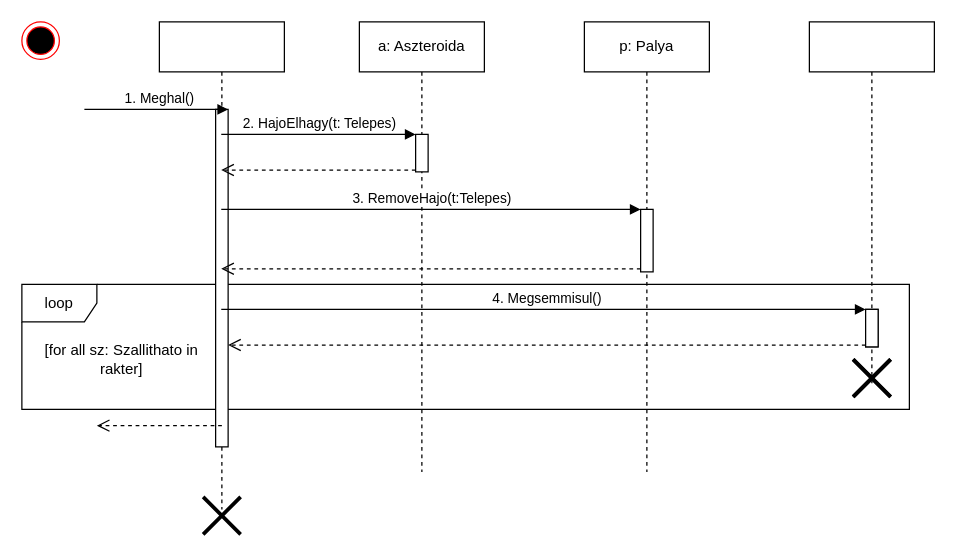
Image size: 956x558. Some labels were removed from this diagram. The box of each missing label's shape, as (x1, y1, x2, y2) in pixels:
sz:Szallithato: (808, 21, 934, 384)
t:Telepes: (158, 21, 284, 509)
